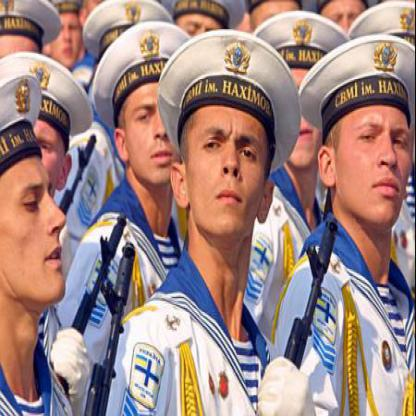face: (1, 97, 75, 320), (186, 61, 273, 245), (122, 44, 190, 190), (48, 1, 87, 71)
